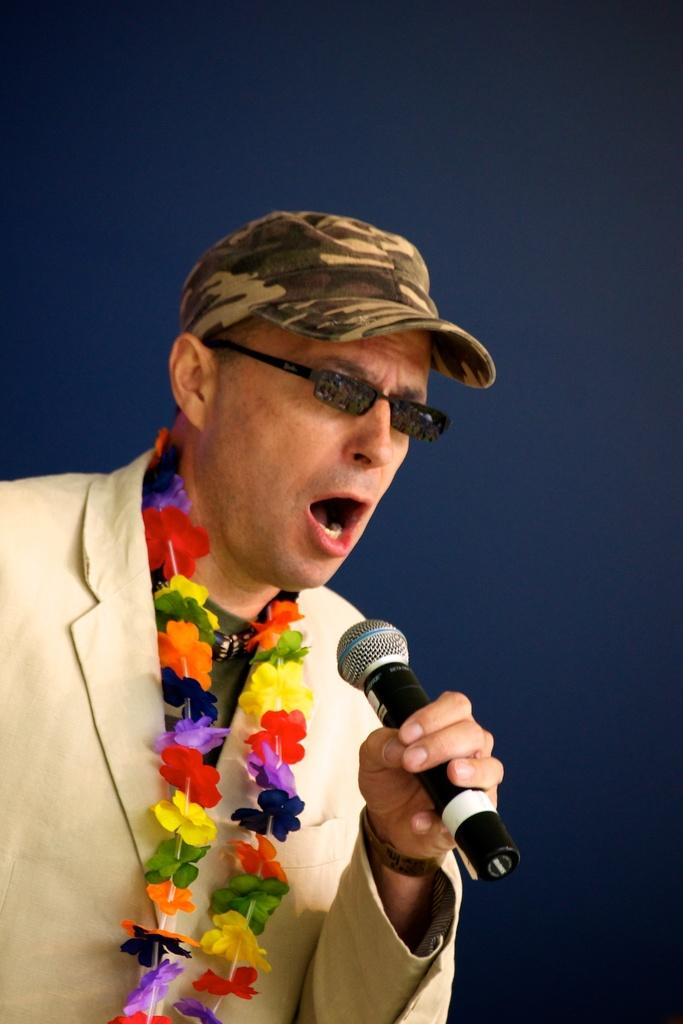Hat: (181, 210, 498, 390)
